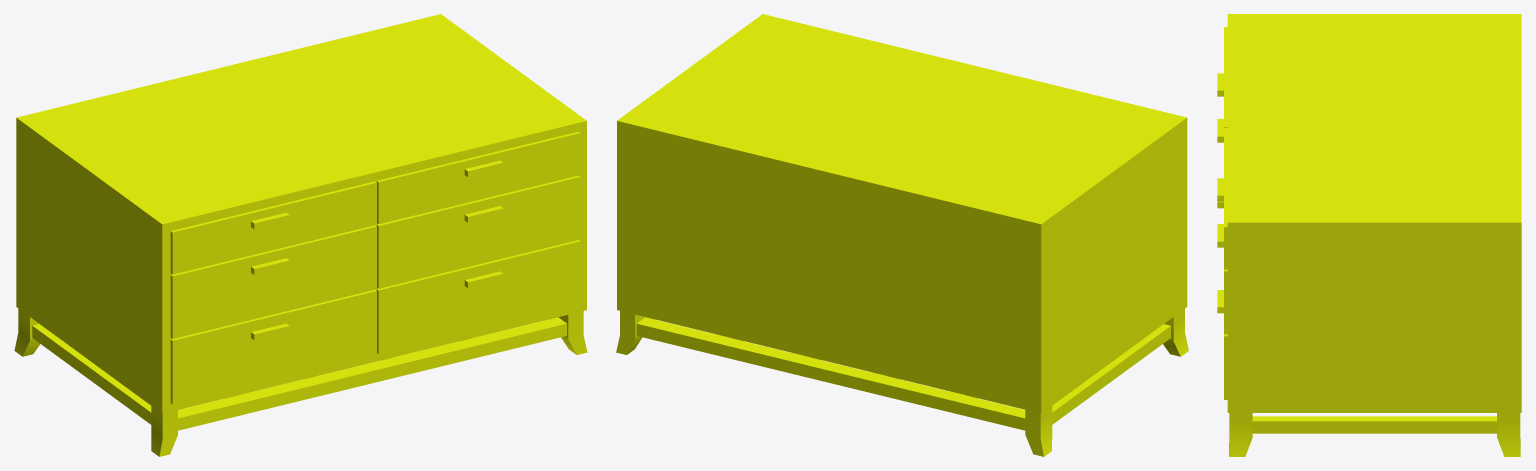
Rendered from Drawer3.FBX.
3 renders of one model, left to right at view 1: azimuth 30°, elevation 25°; view 2: azimuth 150°, elevation 25°; view 3: azimuth 270°, elevation 25°, orthographic.
Visible parts, largest first — view 1: Box006; view 2: Box006; view 3: Box006.
Part boxes in pixels (x1,y1,x2,y2): Box006: (14, 14, 587, 456); Box006: (616, 14, 1188, 456); Box006: (1217, 14, 1521, 456).
Size of the model in its own units: 2.43 by 1.26 by 1.48.
